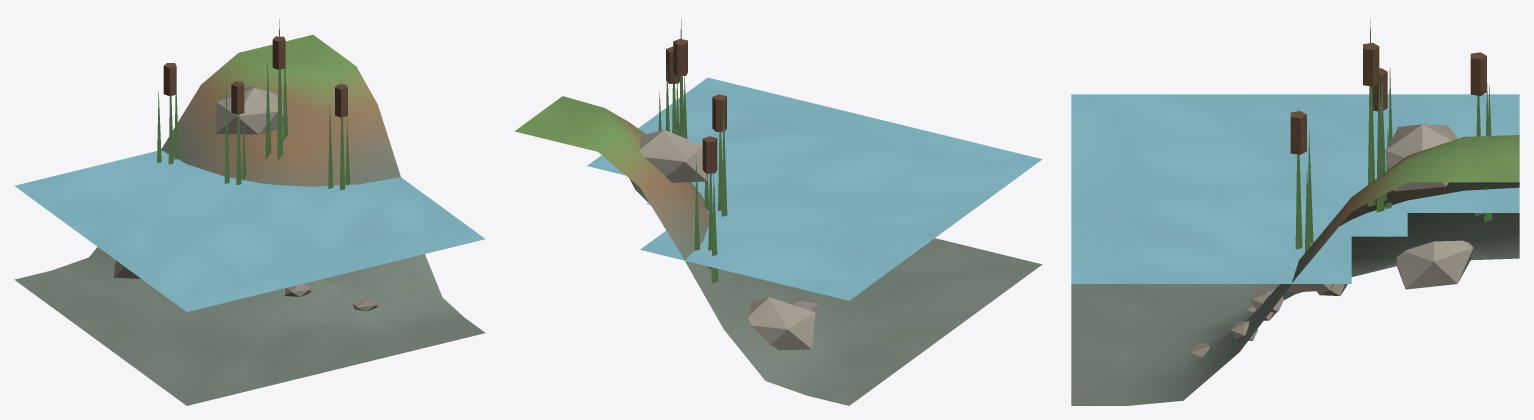
The model's file is bank.inner.glb.
The picture shows the model from 3 angles, left to right: view 1: azimuth 30°, elevation 25°; view 2: azimuth 150°, elevation 25°; view 3: azimuth 270°, elevation 25°; orthographic projection. The views are drawn at different scales.
Parts seen in each view (by area): view 1: bank.inner.v1.land, bank.inner.v0.water, bank.inner.v0.land, bank.inner.v2.land; view 2: bank.inner.v0.water, bank.inner.v1.land, bank.inner.v2.land, bank.inner.v0.land; view 3: bank.inner.v0.water, bank.inner.v1.land, bank.inner.v0.land, bank.inner.v2.land.
Part boxes in pixels (<box>): bank.inner.v1.land: <box>14,19,484,405</box>; bank.inner.v0.water: <box>14,150,485,311</box>; bank.inner.v0.land: <box>145,279,377,323</box>; bank.inner.v2.land: <box>113,86,283,278</box>; bank.inner.v0.water: <box>587,77,1042,300</box>; bank.inner.v1.land: <box>514,19,1042,405</box>; bank.inner.v2.land: <box>639,129,815,350</box>; bank.inner.v0.land: <box>629,179,828,339</box>; bank.inner.v0.water: <box>1071,94,1519,283</box>; bank.inner.v1.land: <box>1071,19,1519,405</box>; bank.inner.v0.land: <box>1191,182,1519,359</box>; bank.inner.v2.land: <box>1285,124,1473,292</box>.
Size of the model in its own units: 1 by 0.8218 by 1.
